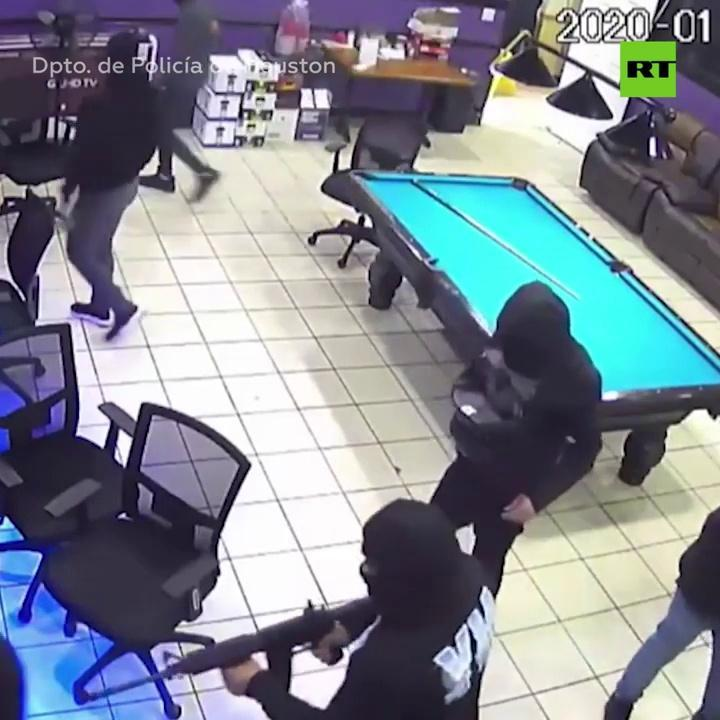Long guns: (79, 591, 374, 720)
